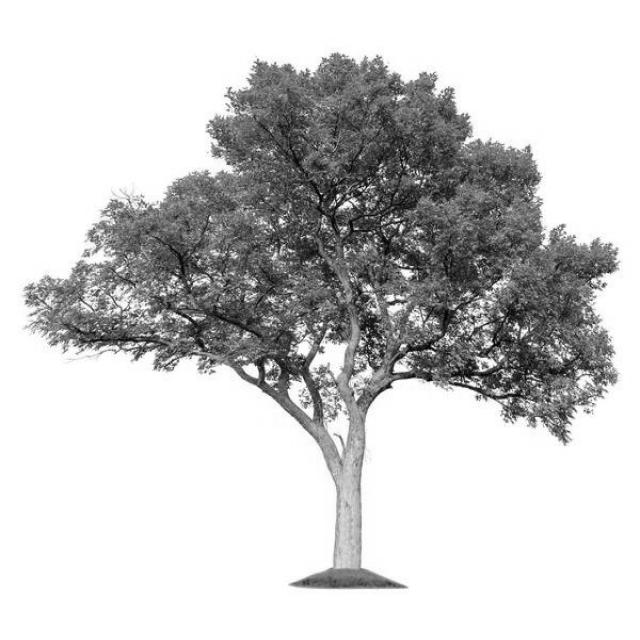Tree: (25, 54, 618, 572)
